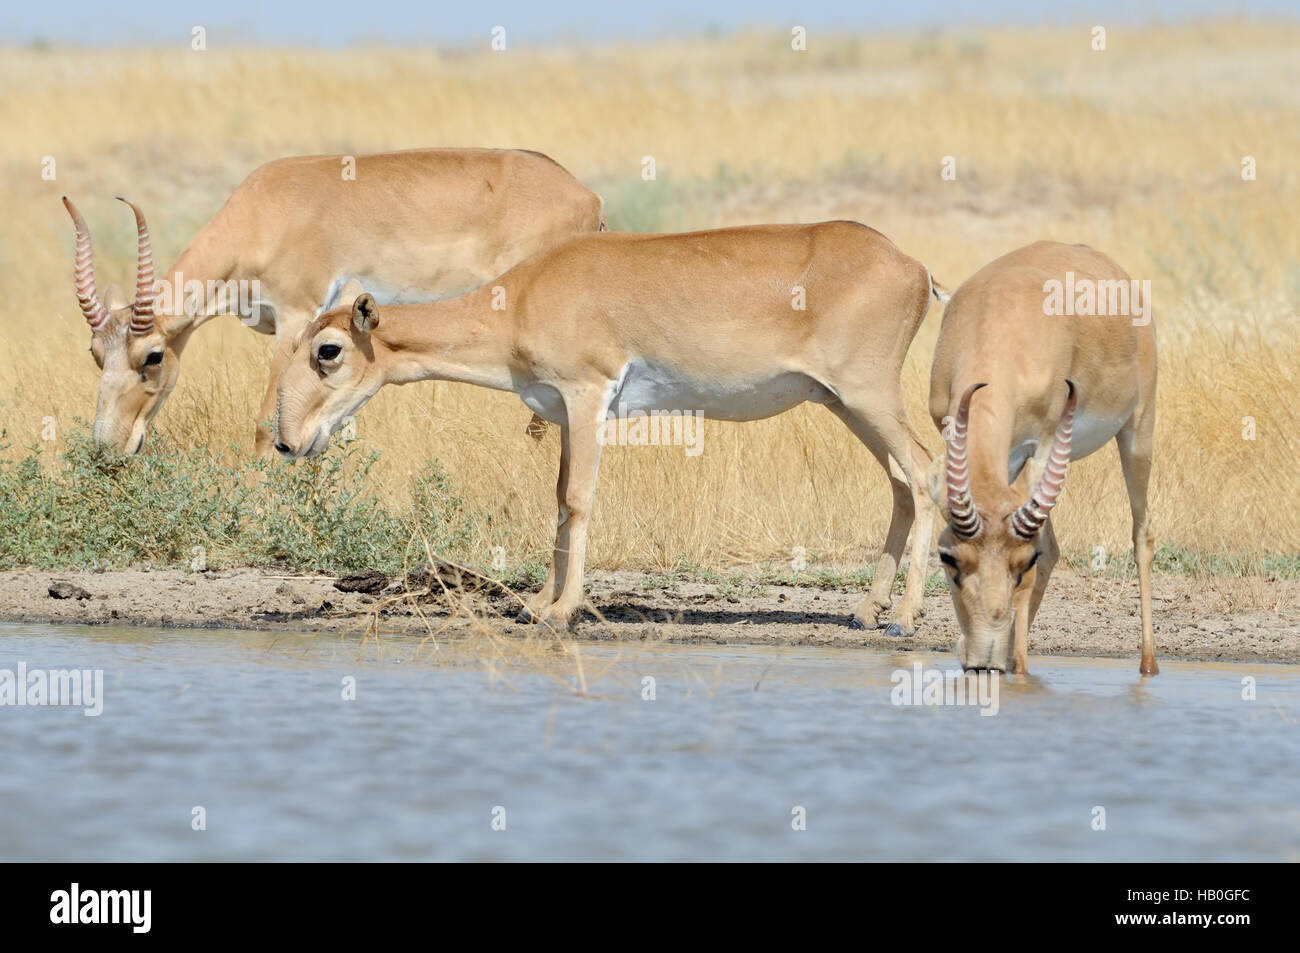saiga: (272, 215, 969, 665), (53, 136, 615, 475), (923, 229, 1183, 689)
